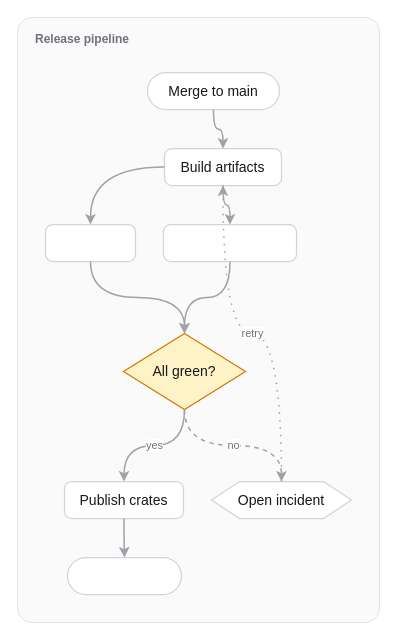
Image size: 397x640. Some labels were removed from this diagram. The centre of each missing label's shape, as x and y in pixels:
"Integration tests" goes at point 229,242.
"Notify team" goes at point 124,575.
"Unit tests" goes at point 90,242.
